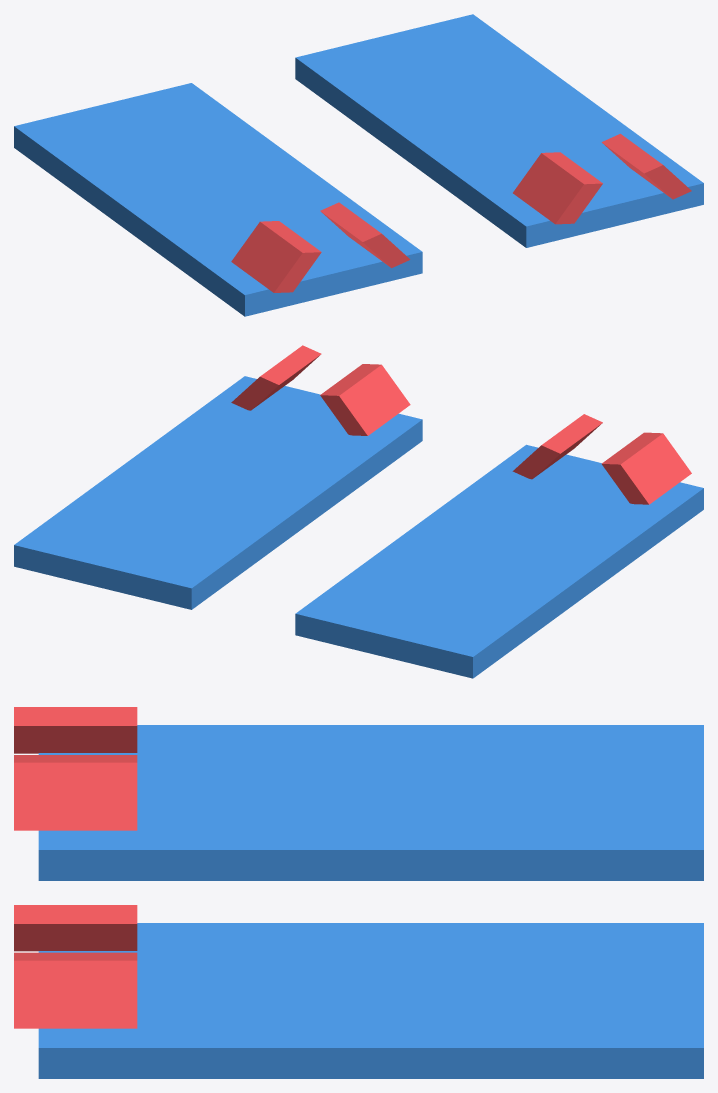
File: shoes_fun_0.glb
3 views of the same model, one above another, from view 1: azimuth 30°, elevation 25°; view 2: azimuth 150°, elevation 25°; view 3: azimuth 270°, elevation 25° (orthographic). The views are drawn at different scales.
Bounding box in the file's own units: 0.3472 × 0.042 × 0.3136.
